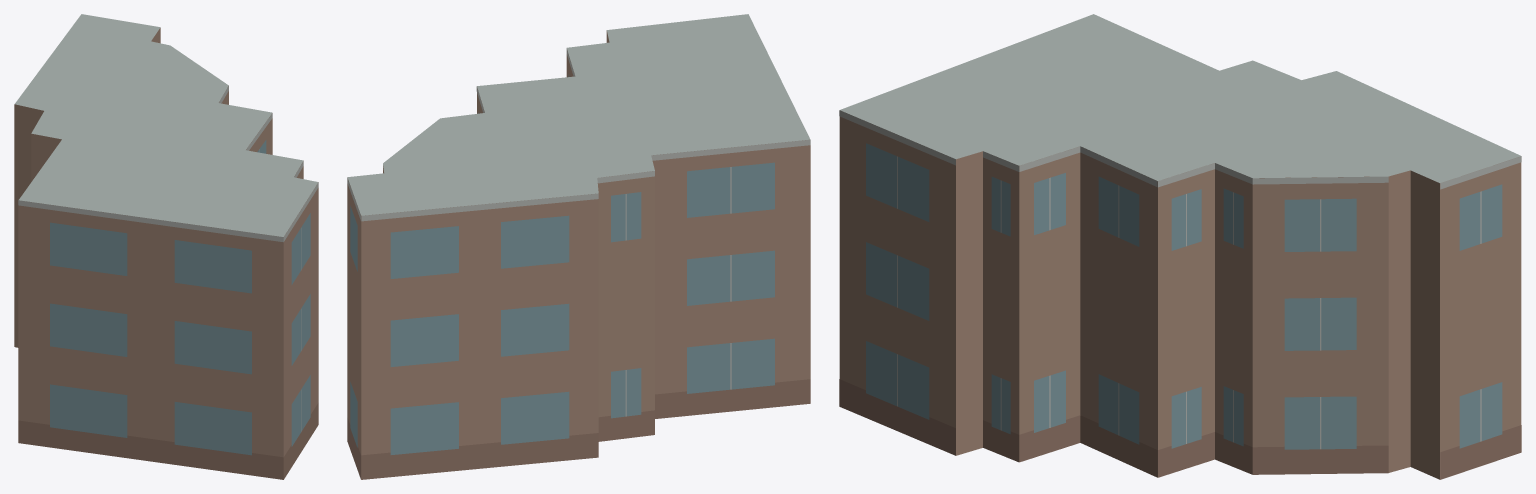
File: survey-upis-32462543.glb
3 renders of one model, left to right at view 1: azimuth 30°, elevation 25°; view 2: azimuth 150°, elevation 25°; view 3: azimuth 270°, elevation 25°, orthographic. The views are drawn at different scales.
Visible parts, largest first — view 1: survey-upis-32462543.tmp; view 2: survey-upis-32462543.tmp; view 3: survey-upis-32462543.tmp.
Boxes of the visible parts, box(x1,y1,x2,y2) form: survey-upis-32462543.tmp: box(14, 14, 318, 479); survey-upis-32462543.tmp: box(347, 14, 810, 479); survey-upis-32462543.tmp: box(839, 14, 1521, 479).
Size of the model in its own units: 14.09 by 11.5 by 23.97.
